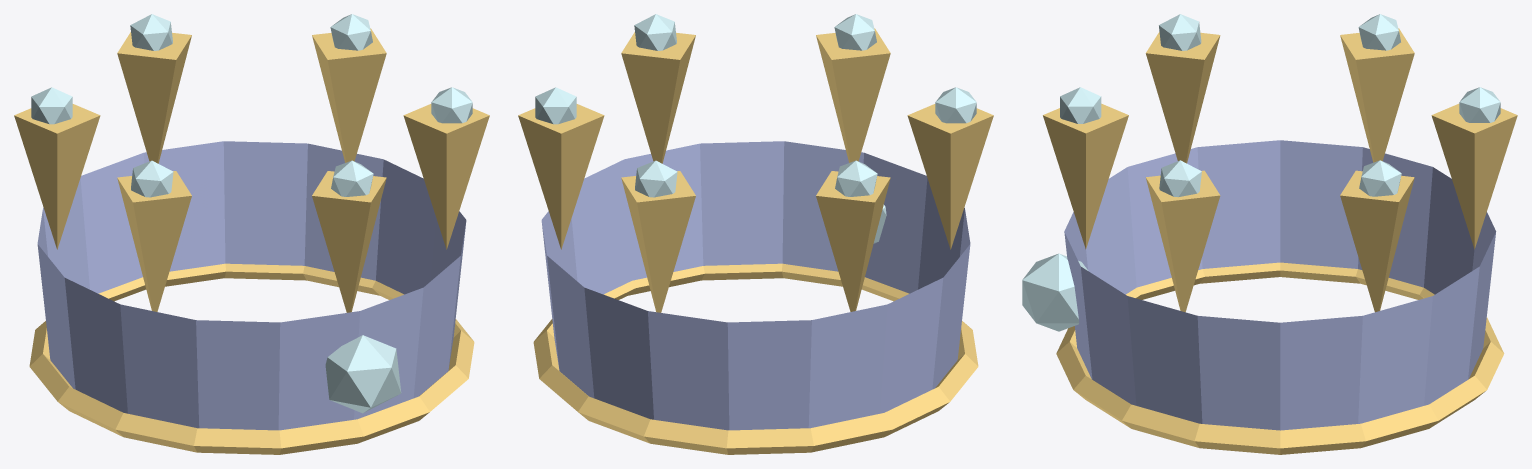
File: crown.fbx
The picture shows the model from 3 angles, left to right: view 1: azimuth 30°, elevation 25°; view 2: azimuth 150°, elevation 25°; view 3: azimuth 270°, elevation 25°; orthographic projection.
Visible parts, largest first — view 1: crown.Main, crown.Gold, crown.Glow; view 2: crown.Main, crown.Gold, crown.Glow; view 3: crown.Main, crown.Gold, crown.Glow.
Boxes of the visible parts, x1=… form: crown.Main: x1=37, y1=141, x2=466, y2=430; crown.Gold: x1=14, y1=28, x2=489, y2=454; crown.Glow: x1=31, y1=14, x2=472, y2=413; crown.Main: x1=541, y1=141, x2=970, y2=430; crown.Gold: x1=518, y1=28, x2=993, y2=454; crown.Glow: x1=535, y1=14, x2=976, y2=243; crown.Main: x1=1064, y1=140, x2=1496, y2=430; crown.Gold: x1=1043, y1=28, x2=1517, y2=454; crown.Glow: x1=1022, y1=14, x2=1500, y2=331.
Bounding box in the file's own units: 1.66 × 1.14 × 1.84.
